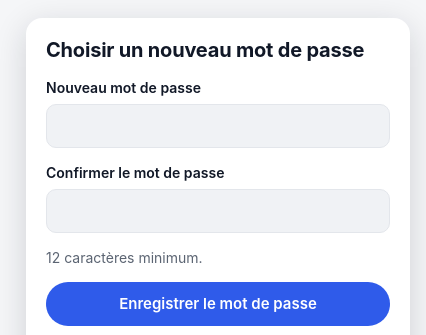
Test: AccountMenu › nouveau mot de passe (arrivée par le lien de l’e-mail) › les deux saisies doivent être identiques (vérifié avant l’envoi)
The width and height of the screenshot is (426, 335).
(page scrolled)
Type "nouveau-mot-de-passe" into the password field labelled "Nouveau mot de passe" at (218, 126), box [46,104,390,148]
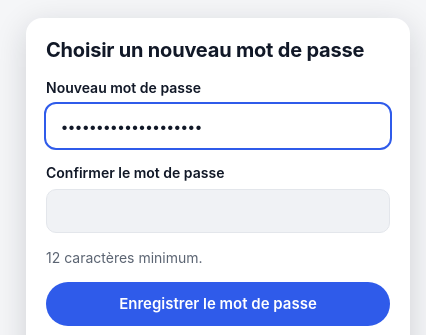
Type "autre-mot-de-passe!" into the password field labelled "Confirmer le mot de passe" at (218, 211), box [46,189,390,233]
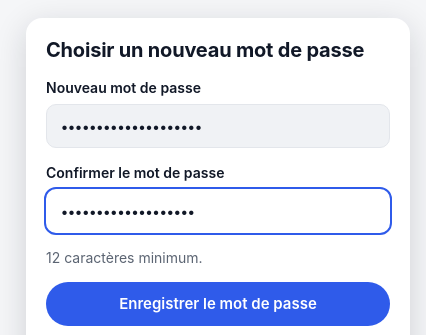
Click the button "Enregistrer le mot de passe" at (218, 304), box [46,282,390,326]
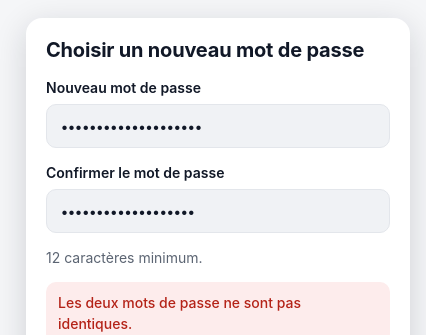
Now the message reads "Les deux mots de passe ne sont pas identiques.", box [58,294,301,332]
